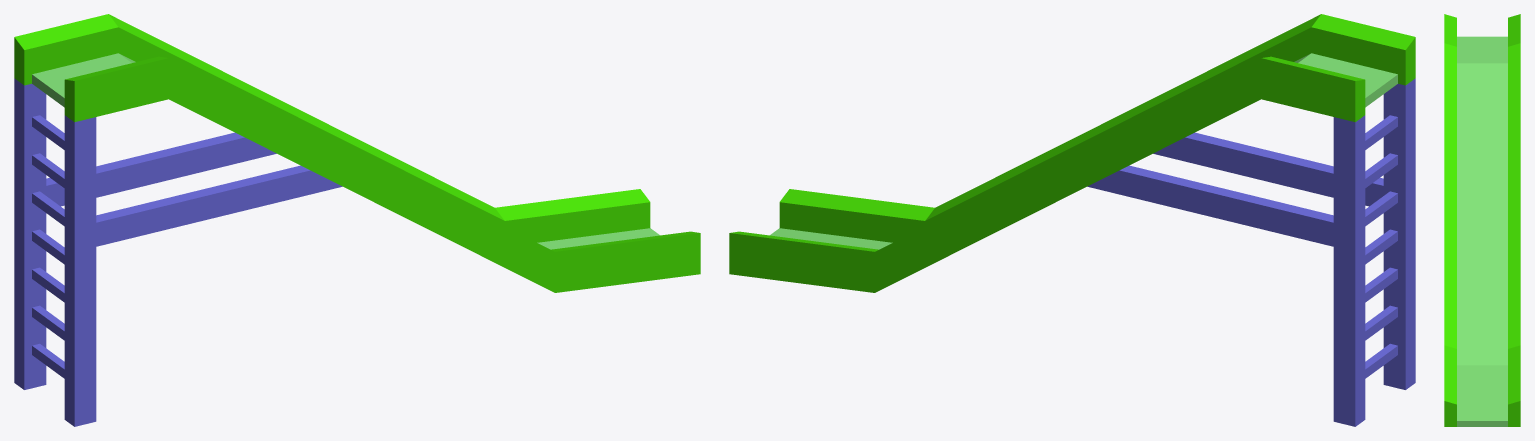
File: Tobogan.fbx
3 views of the same model, side by side, from view 1: azimuth 30°, elevation 25°; view 2: azimuth 150°, elevation 25°; view 3: azimuth 270°, elevation 25° (orthographic). The views are drawn at different scales.
Parts seen in each view (by area): view 1: Plane; view 2: Plane; view 3: Plane.
Boxes of the visible parts, x1,y1,x2,y2 form: Plane: [14, 14, 700, 426]; Plane: [729, 14, 1415, 426]; Plane: [1444, 14, 1520, 426].
Bounding box in the file's own units: 430 × 227 × 71.66.
